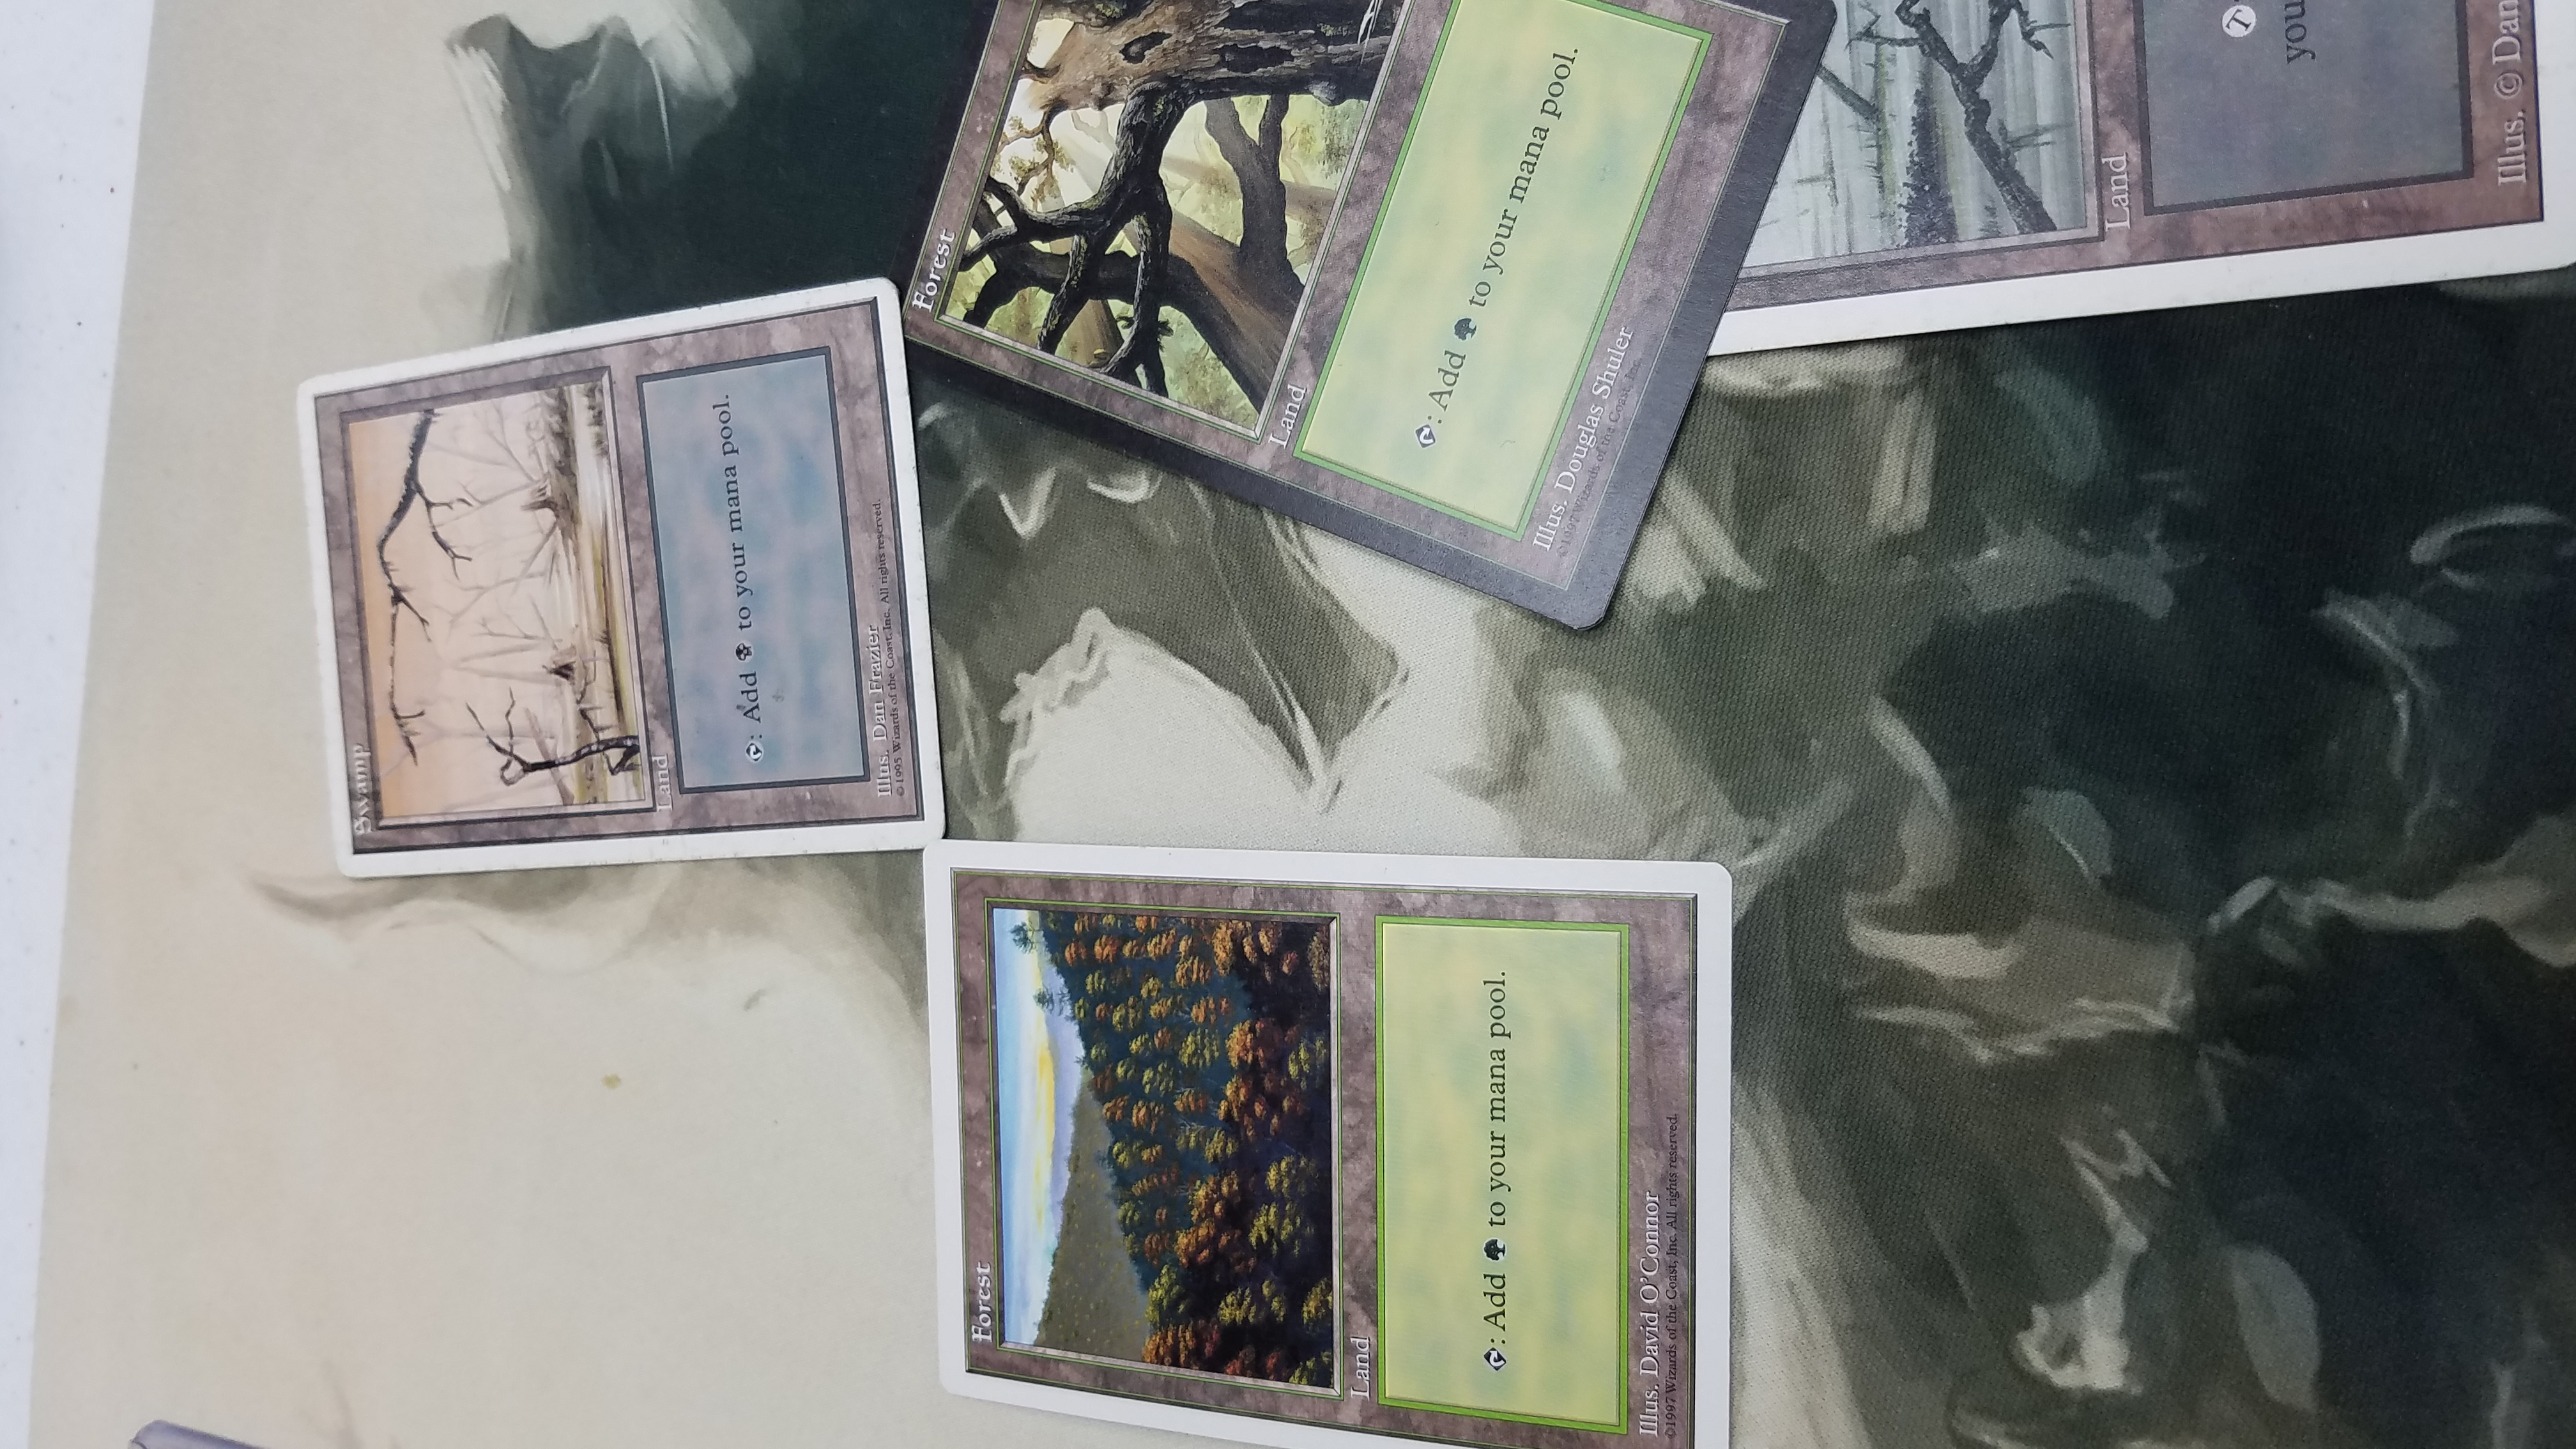Card: (890, 0, 1845, 655), (915, 824, 1762, 1449), (267, 271, 978, 879)
